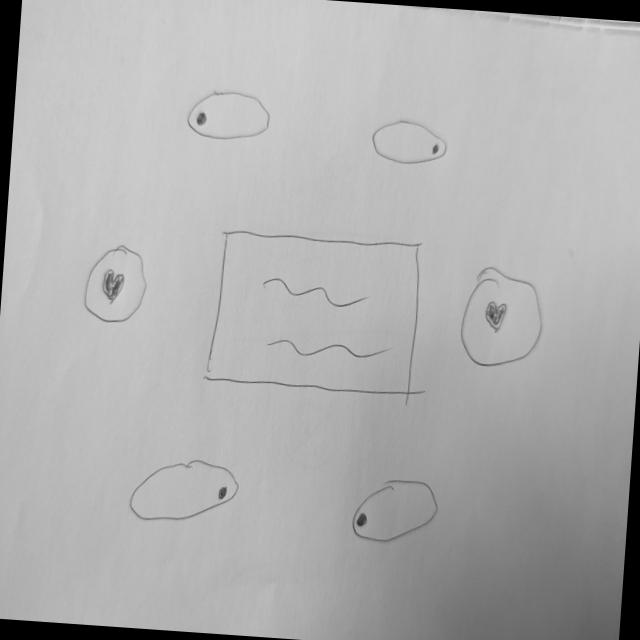icon-button: (455, 260, 549, 374), (80, 240, 151, 328)
textarea: (202, 225, 428, 400)
toggle: (129, 453, 245, 528), (348, 474, 443, 553), (186, 87, 275, 146), (368, 117, 452, 172)
